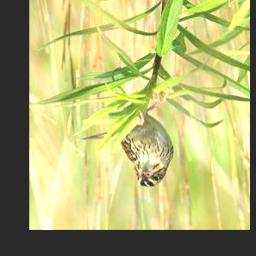Sparrow: (80, 84, 175, 190)
